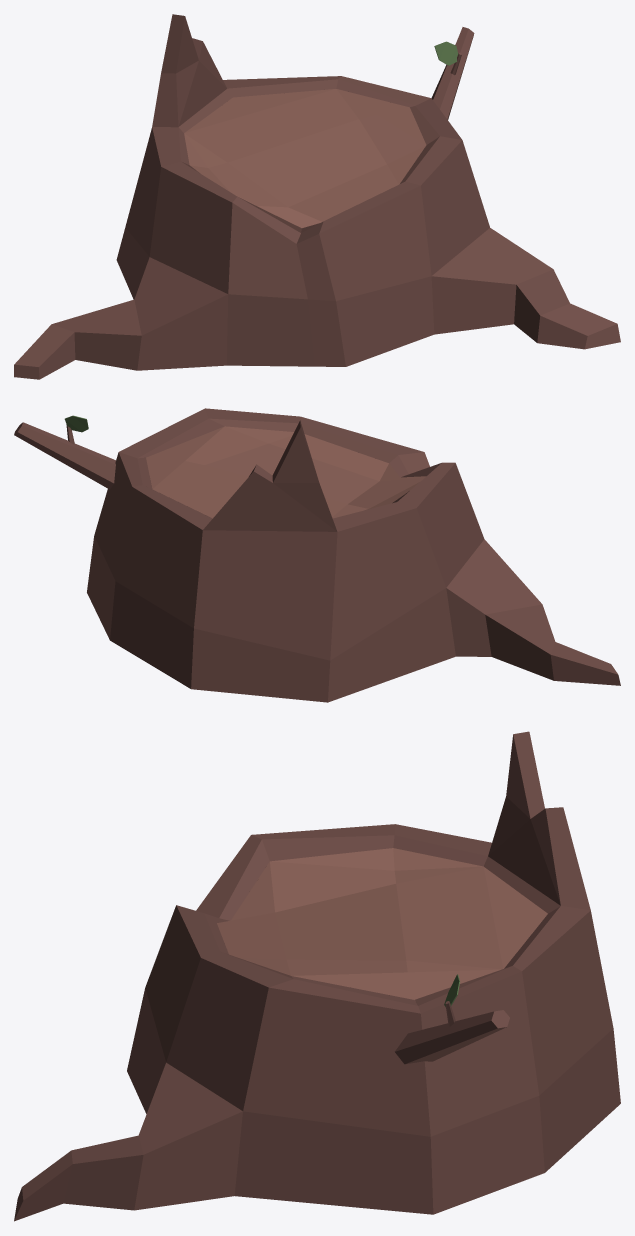
File: TreeStump.glb
The picture shows the model from 3 angles, top to bottom: view 1: azimuth 30°, elevation 25°; view 2: azimuth 150°, elevation 25°; view 3: azimuth 270°, elevation 25°; orthographic projection. The views are drawn at different scales.
Parts seen in each view (by area): view 1: TreeStump; view 2: TreeStump; view 3: TreeStump.
Part boxes in pixels (bbox=[...]): TreeStump: bbox=[14, 14, 620, 379]; TreeStump: bbox=[14, 408, 620, 702]; TreeStump: bbox=[14, 731, 620, 1221].
Bounding box in the file's own units: 1.36 × 0.6216 × 1.03.
